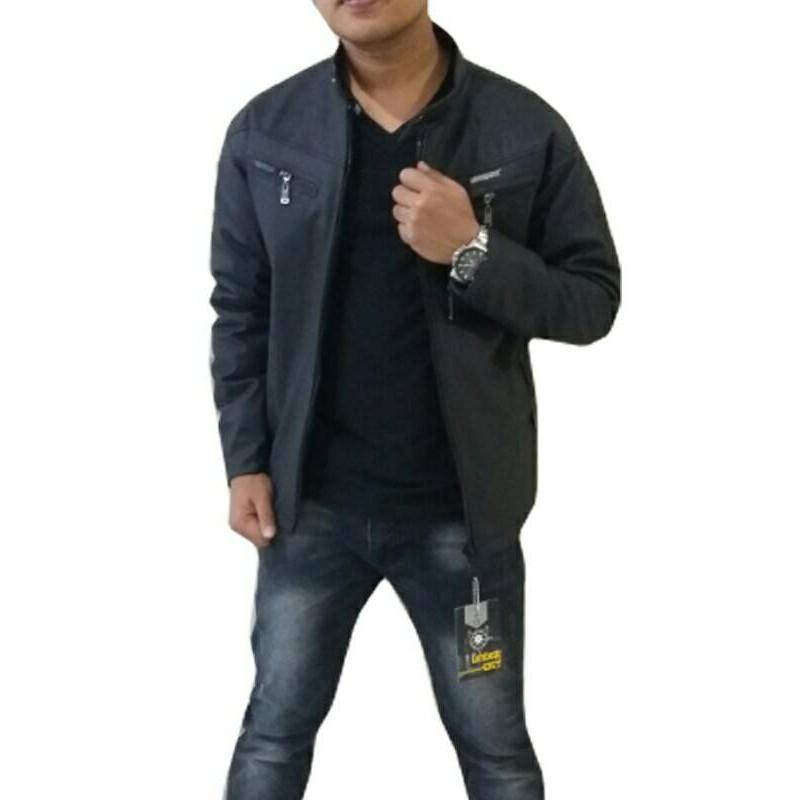jacket: (181, 18, 637, 558)
pants: (205, 465, 593, 800)
